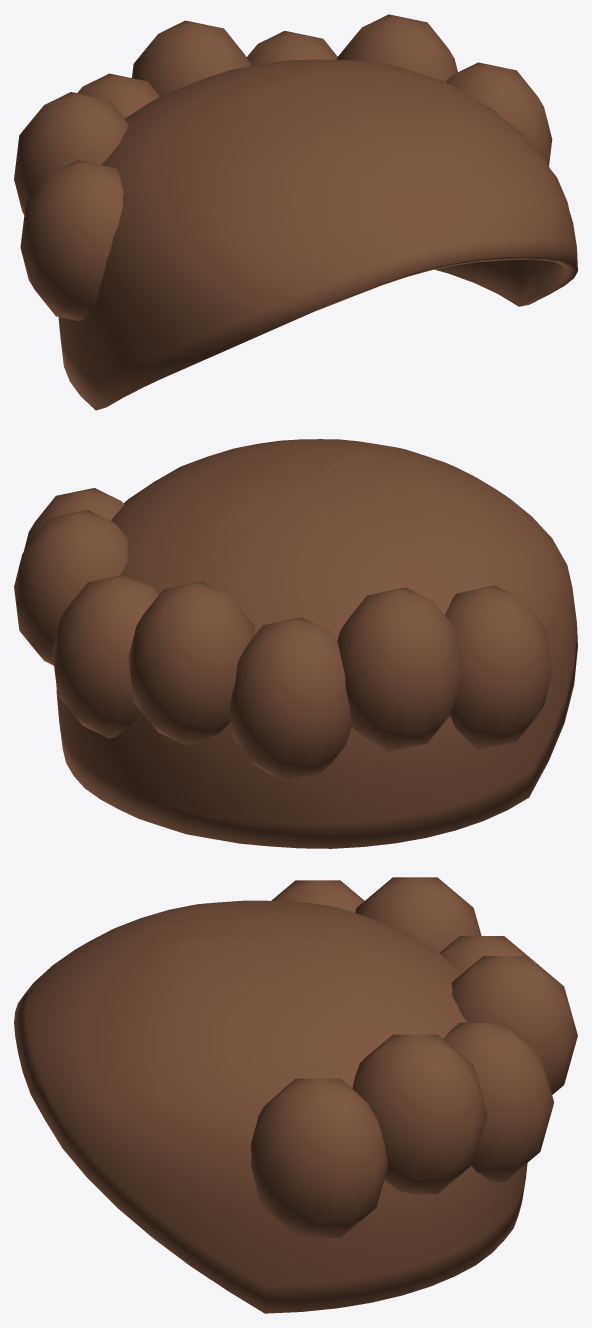
File: hair_waves_chestnut.glb
The picture shows the model from 3 angles, top to bottom: view 1: azimuth 30°, elevation 25°; view 2: azimuth 150°, elevation 25°; view 3: azimuth 270°, elevation 25°; orthographic projection.
Parts seen in each view (by area): view 1: hair_waves_chestnut; view 2: hair_waves_chestnut; view 3: hair_waves_chestnut.
Boxes of the visible parts, bbox=[...] form: hair_waves_chestnut: bbox=[14, 14, 577, 410]; hair_waves_chestnut: bbox=[14, 439, 577, 848]; hair_waves_chestnut: bbox=[14, 877, 577, 1313].
Size of the model in its own units: 0.5776 by 0.2874 by 0.5457.
